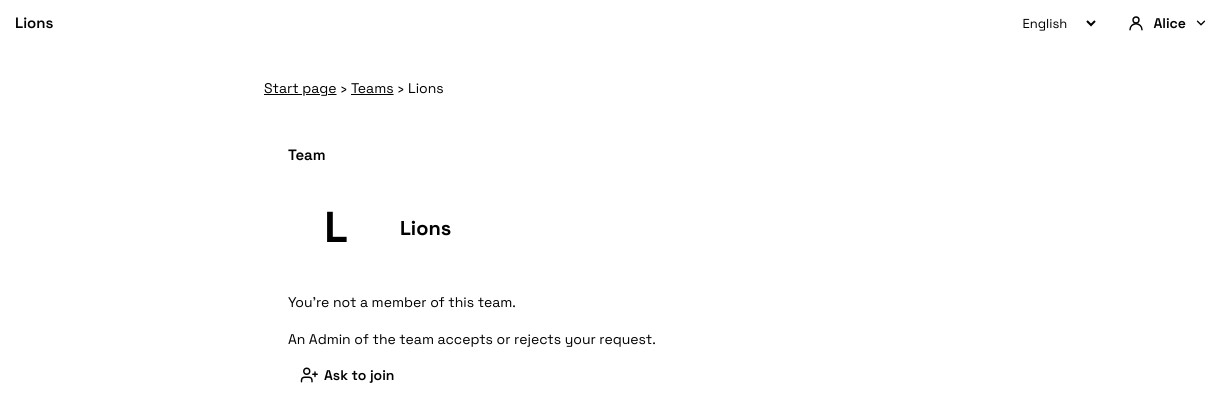
team page › shows non-members only the name and the logo, and lets them ask to join
Expected: the element "Team" shows "Lions", [400,215,451,241]
Expected: the element "Team" shows "You're not a member of this team.", [288,293,516,311]
Click the button "Ask to join".
click(347, 375)  # box [288,366,406,384]
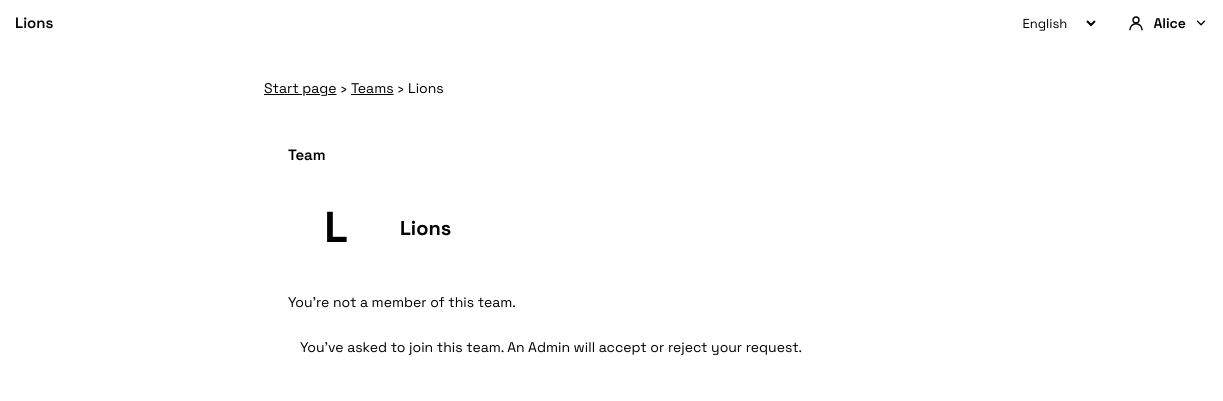
Result: the element "Team" shows "You've asked to join this team. An Admin will accept or reject your request." at [300,338,802,356]
Result: the button "Ask to join" is gone
